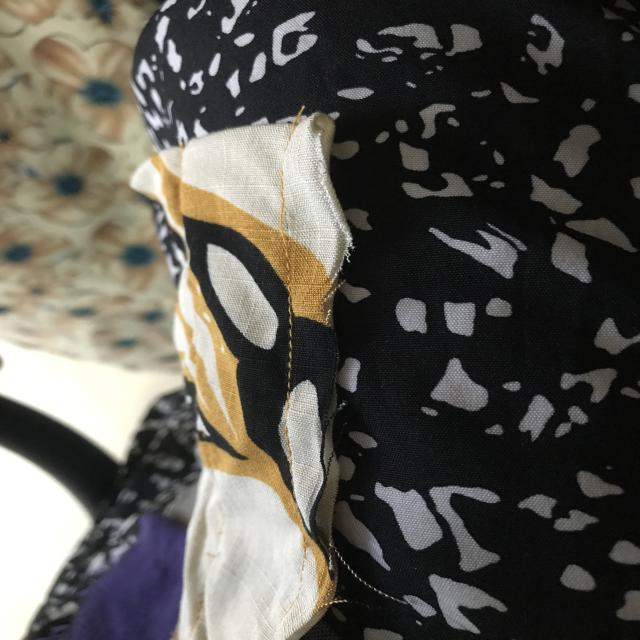skip: (249, 192, 302, 260)
